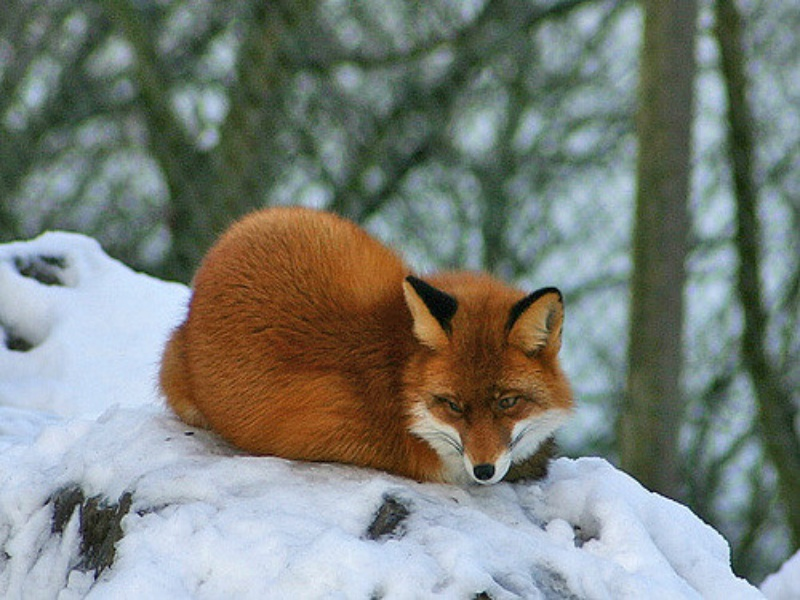fox: (157, 201, 575, 490)
